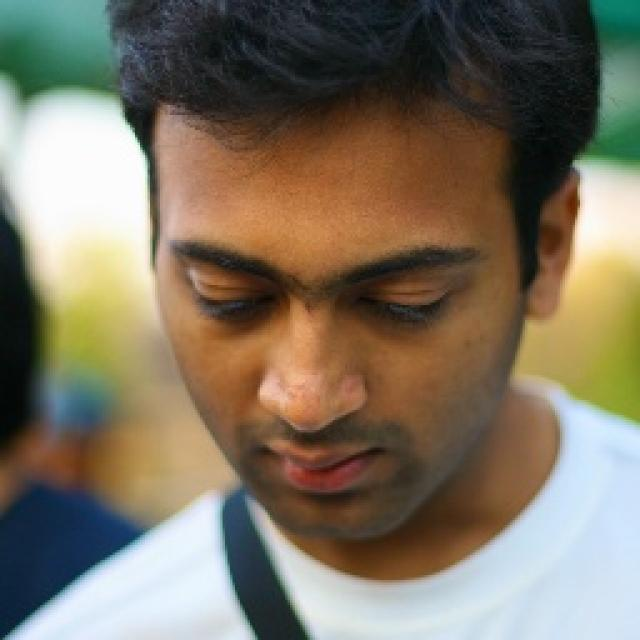earlobe: (526, 286, 566, 325)
eye: (183, 281, 273, 318), (355, 292, 454, 320)
nose: (264, 418, 366, 446)
wholeear: (522, 165, 584, 324)
